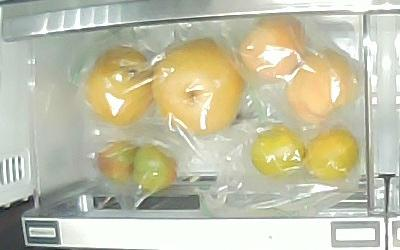peach_vinyl: (286, 51, 357, 123), (238, 16, 307, 78)
pear_vinyl: (151, 39, 244, 135), (85, 47, 153, 126)
tangerine_vinyl: (303, 127, 359, 182), (250, 128, 305, 177)
tomato_vinyl: (132, 144, 178, 193), (97, 142, 136, 182)
